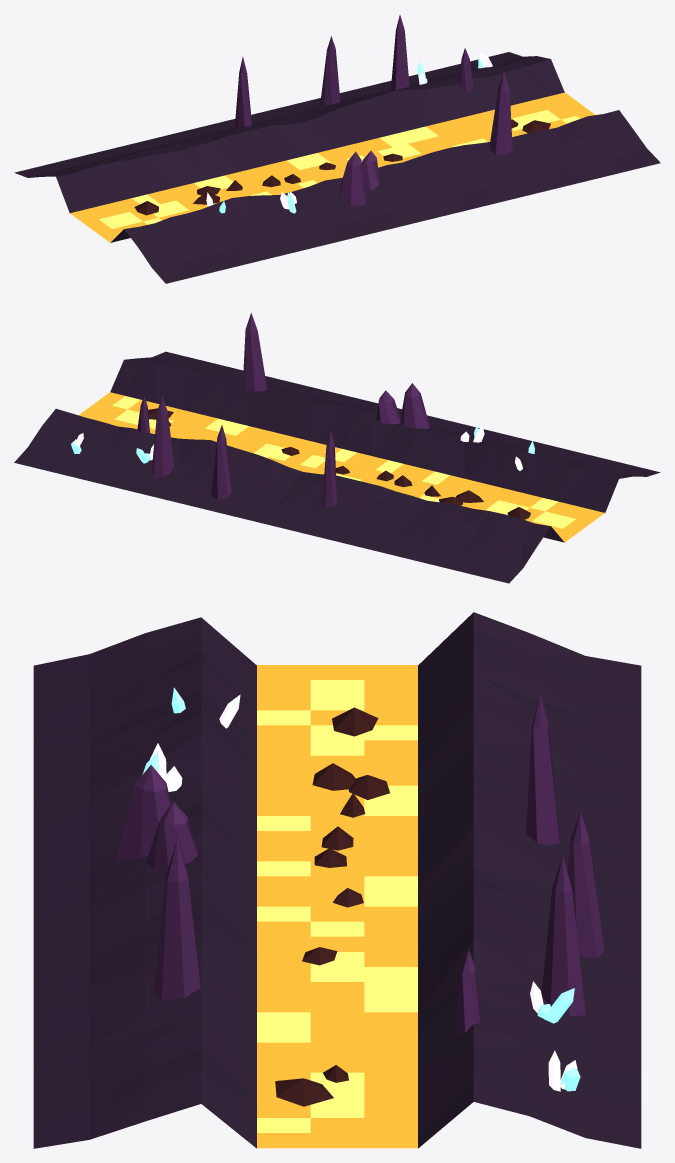
Rendered from W4_Mid_LavaBank.fbx.
3 views of the same model, one above another, from view 1: azimuth 30°, elevation 25°; view 2: azimuth 150°, elevation 25°; view 3: azimuth 270°, elevation 25° (orthographic). The views are drawn at different scales.
Visible parts, largest first — view 1: W4_Mid_LavaBank; view 2: W4_Mid_LavaBank; view 3: W4_Mid_LavaBank.
Boxes of the visible parts, left/top/right/bottom form: W4_Mid_LavaBank: left=14, top=15, right=660, bottom=283; W4_Mid_LavaBank: left=14, top=313, right=660, bottom=583; W4_Mid_LavaBank: left=33, top=612, right=641, bottom=1148.
Size of the model in its own units: 128 by 23.48 by 68.
